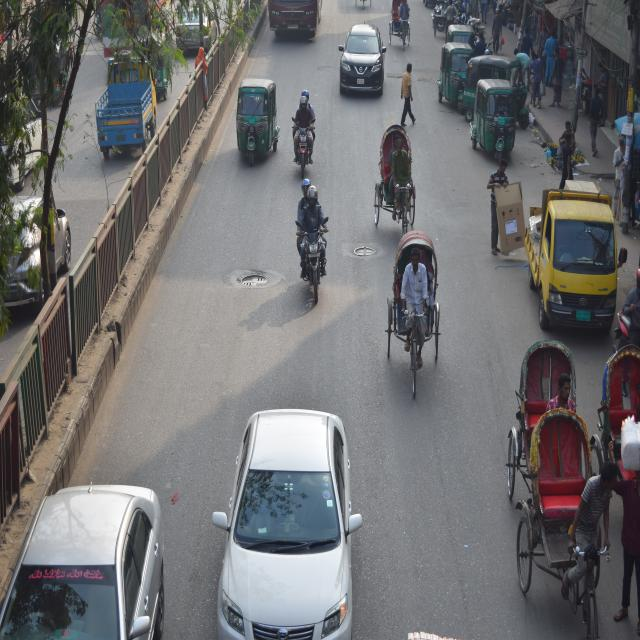bus: (270, 0, 321, 48)
car: (206, 398, 361, 640), (0, 468, 165, 640), (2, 182, 74, 319), (338, 19, 386, 99)
motorbike: (296, 182, 332, 308), (290, 108, 320, 177)
pickup-van: (527, 175, 615, 339), (93, 53, 163, 165)
